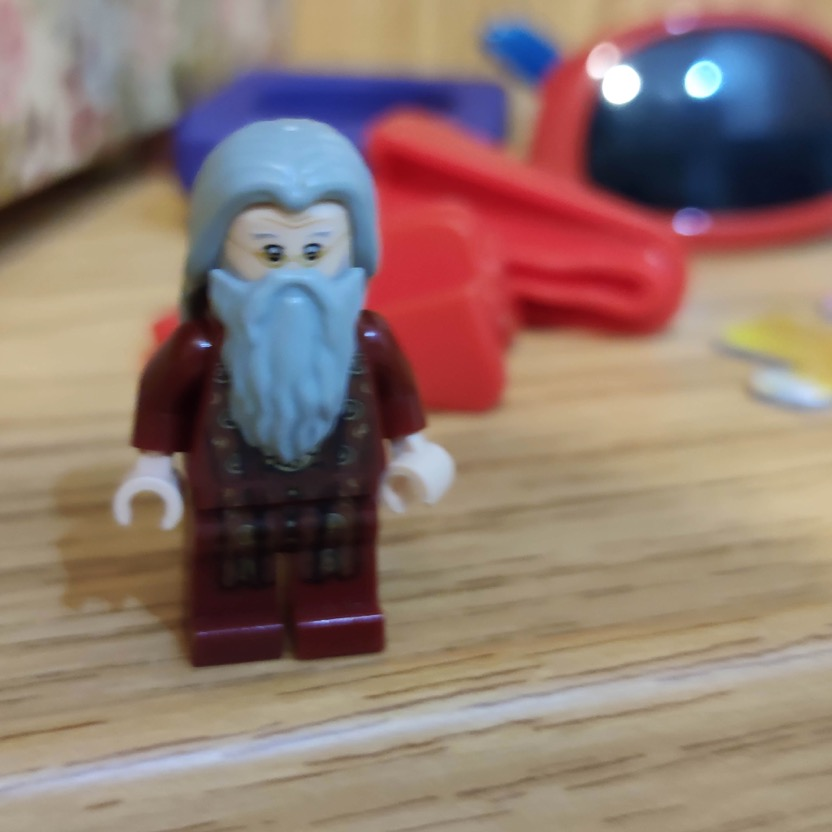lego: (111, 115, 457, 669)
